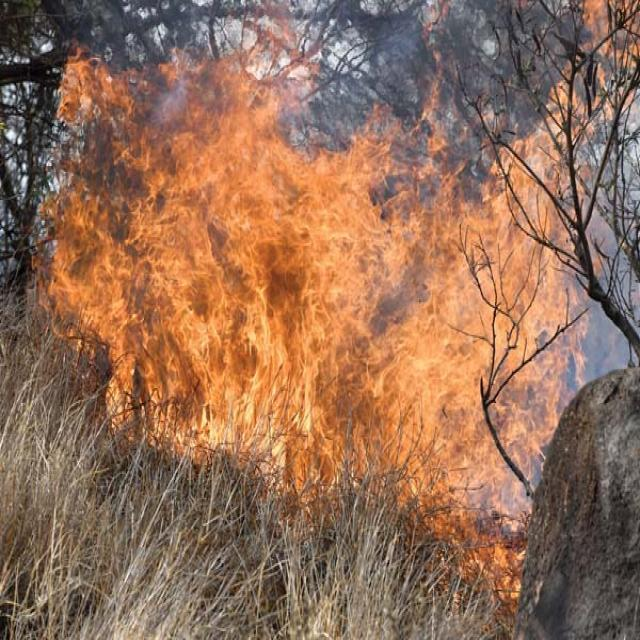Fire: (31, 0, 615, 607)
